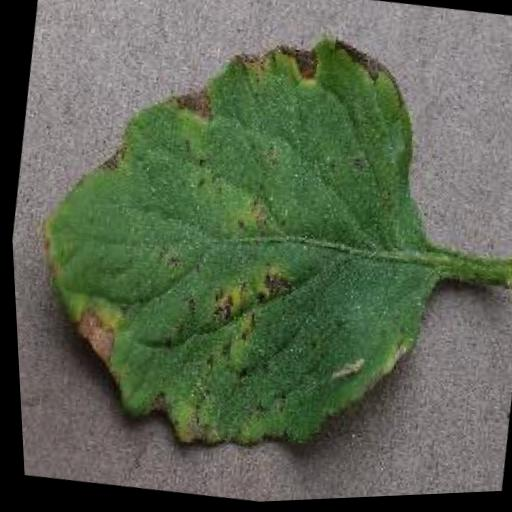Bacterial Spot: (0, 0, 477, 500)
